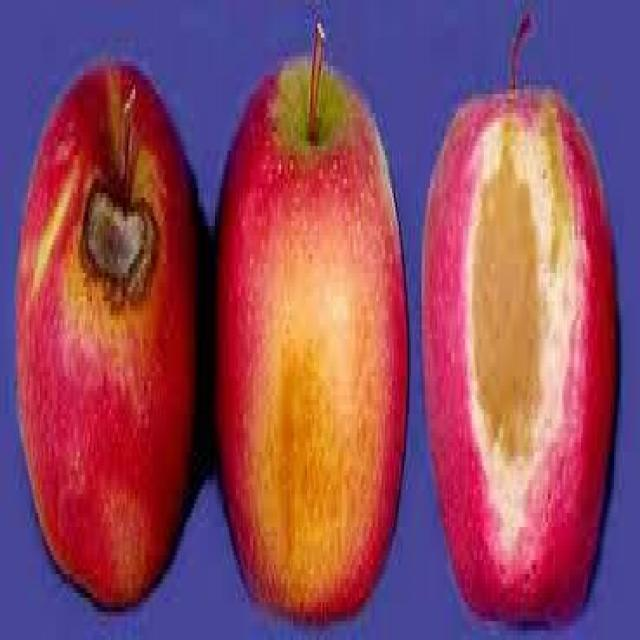Fresh Apple: (212, 41, 414, 628)
Rotten: (416, 75, 630, 639), (16, 58, 202, 612)
